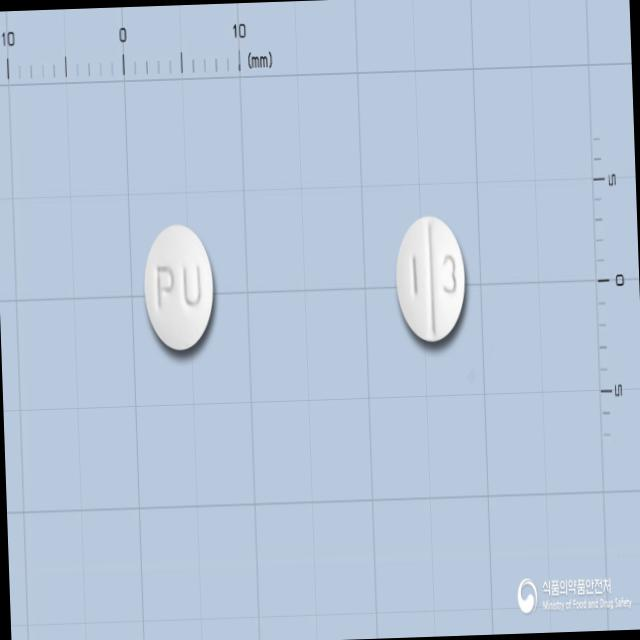Rheumakin Tab: (141, 220, 217, 352), (394, 215, 466, 342)
